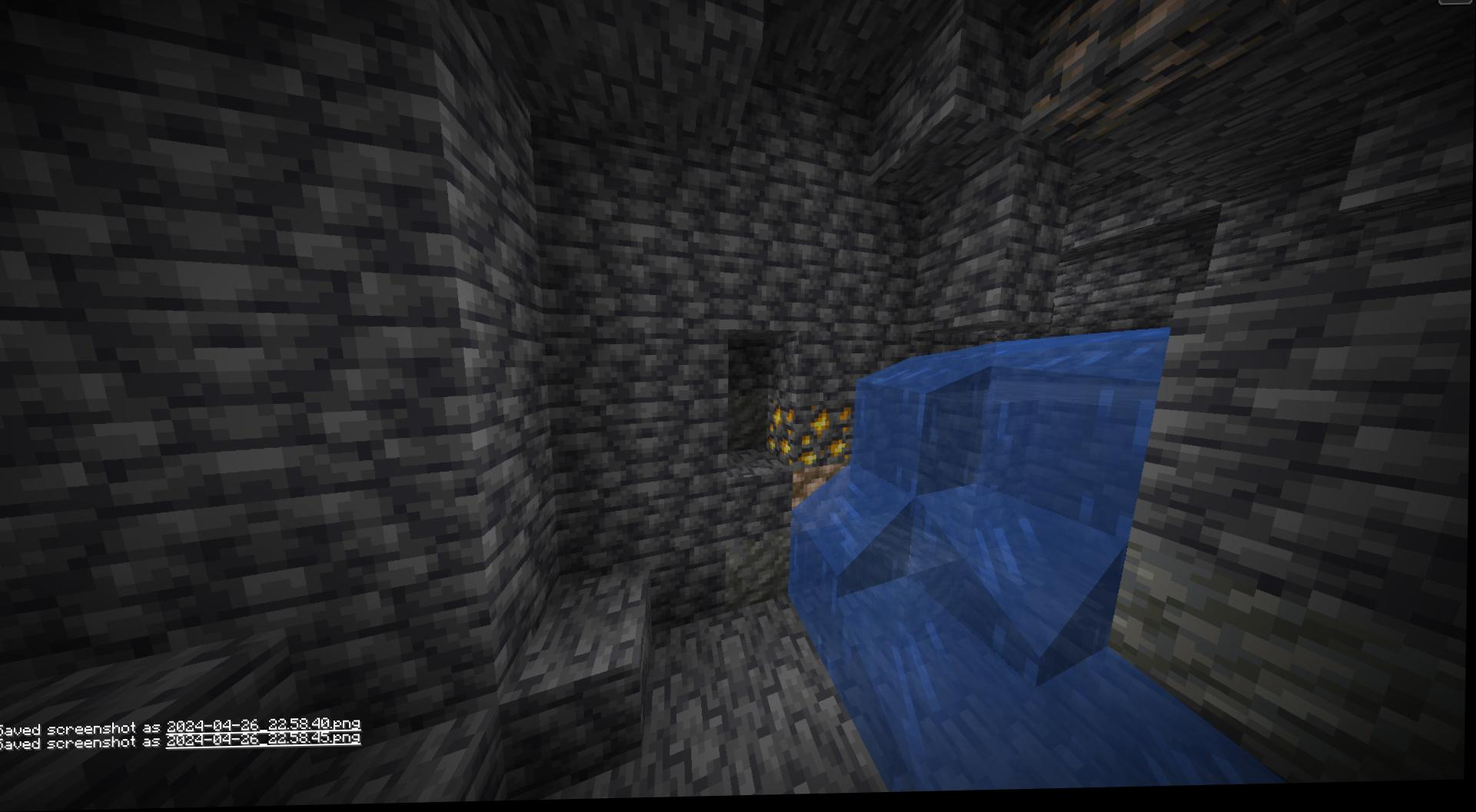gold ore: (797, 403, 859, 471), (768, 403, 797, 462)
iron ore: (1028, 0, 1289, 138)
